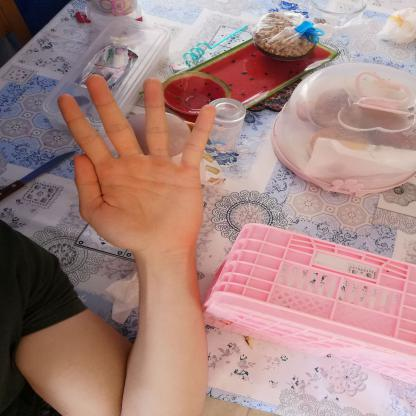SHEEN: (46, 65, 233, 261)
